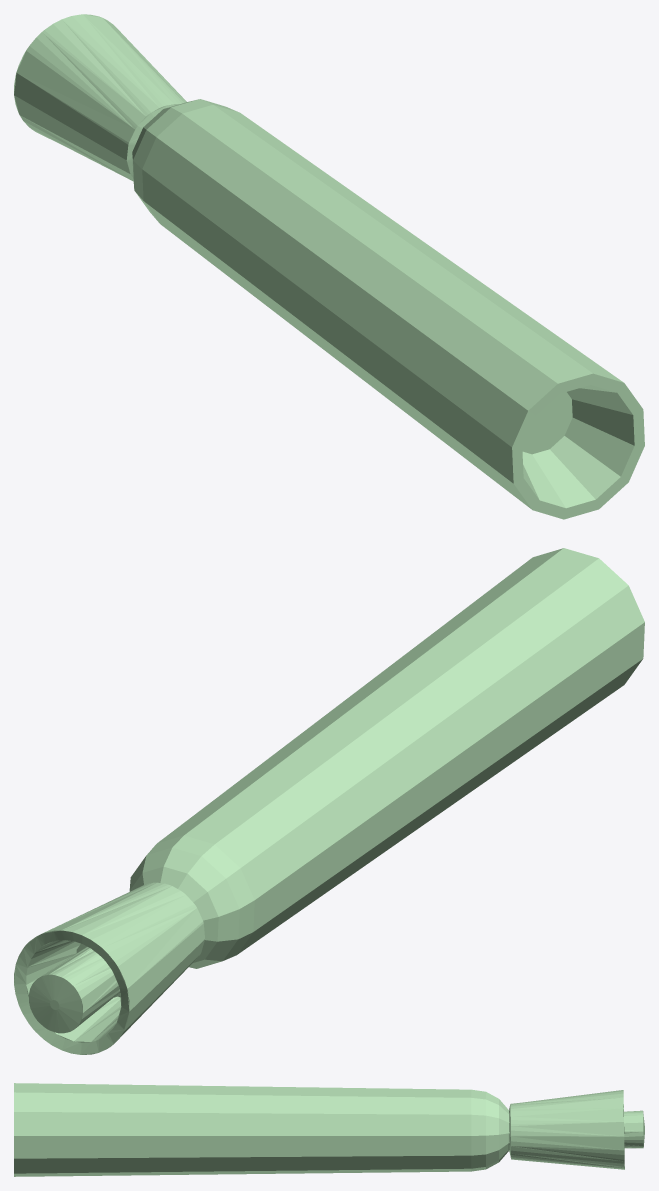
The model's file is pen2_0.dae.
3 renders of one model, top to bottom at view 1: azimuth 30°, elevation 25°; view 2: azimuth 150°, elevation 25°; view 3: azimuth 270°, elevation 25°, orthographic. The views are drawn at different scales.
Parts seen in each view (by area): view 1: pen2_019; view 2: pen2_019; view 3: pen2_019.
Part boxes in pixels (box(x1,y1,x2,y2)): pen2_019: box(14, 14, 644, 519); pen2_019: box(14, 548, 644, 1054); pen2_019: box(14, 1083, 644, 1176).
Bounding box in the file's own units: 0.038 × 0.2596 × 0.038.
